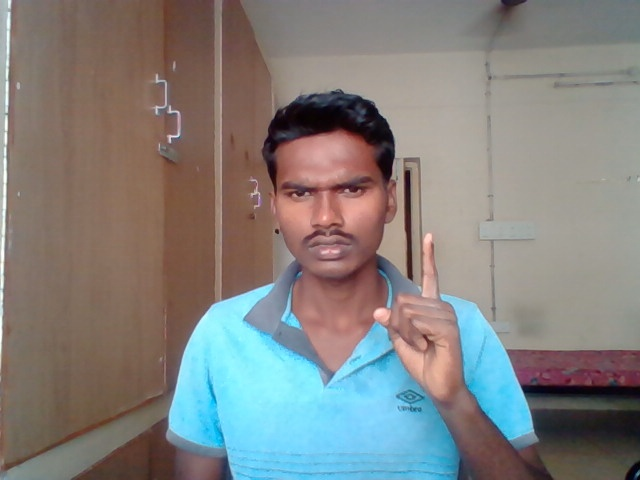No: (372, 229, 474, 412)
